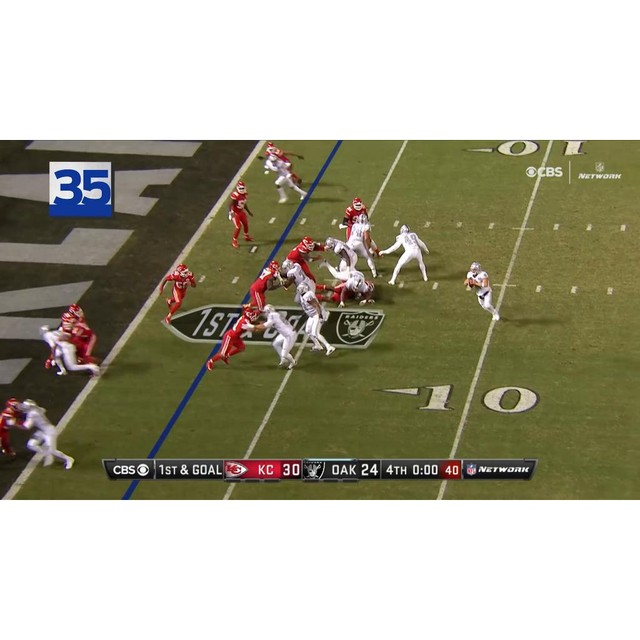american-football-player: (20, 399, 75, 470), (39, 305, 88, 376), (206, 307, 259, 372), (379, 224, 430, 286), (294, 284, 335, 358), (257, 304, 298, 370), (265, 148, 307, 203), (160, 264, 197, 325), (242, 262, 284, 315), (464, 262, 501, 322), (346, 213, 380, 278), (228, 182, 256, 247), (324, 235, 362, 275), (339, 197, 369, 245), (0, 400, 21, 462)
